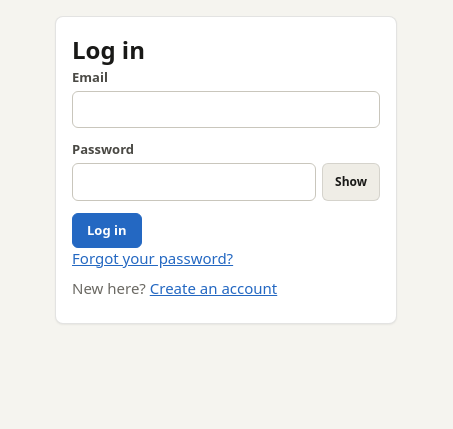
Test: login › explains a wrong email or password and points to the reset
Type " Asha@Example.com " into the field labelled "Email" at (226,110), box [72,91,380,128]
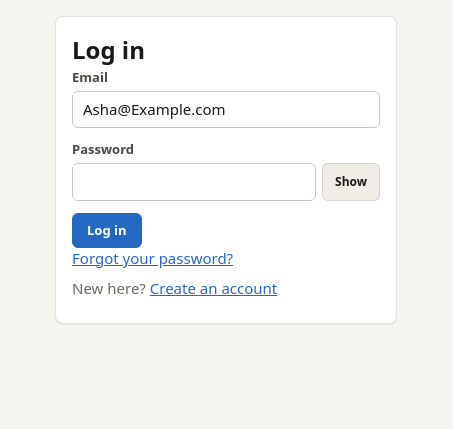
Type "Correct-Horse-42" into the password field labelled "Password" at (194,182), box [72,163,316,201]
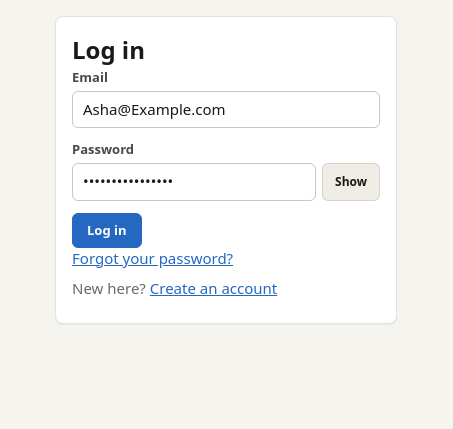
Click the button "Log in" at (107,230), box [72,213,142,248]
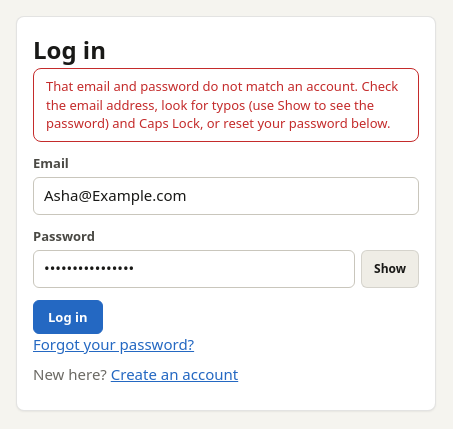
Expected: the link "Forgot your password?" is shown, [33,334,194,354]
Expected: the message shows "reset your password", [46,77,398,132]
